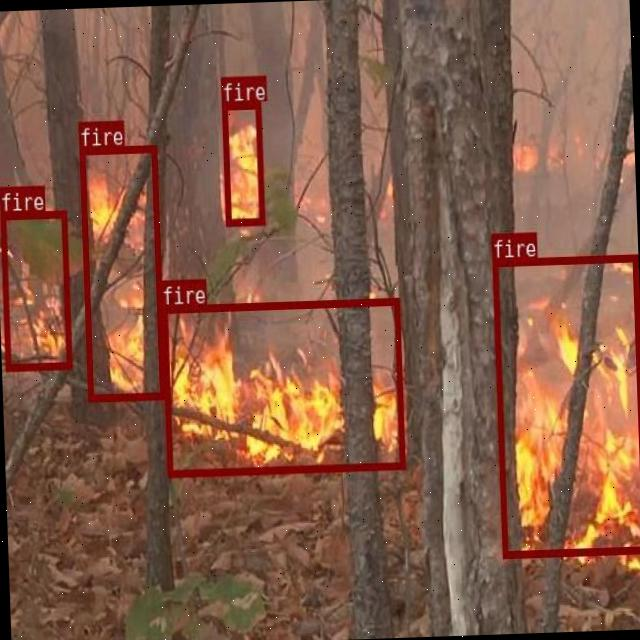fire: (491, 253, 640, 556), (160, 298, 404, 477), (78, 144, 164, 400), (0, 209, 70, 369), (222, 101, 262, 223)
